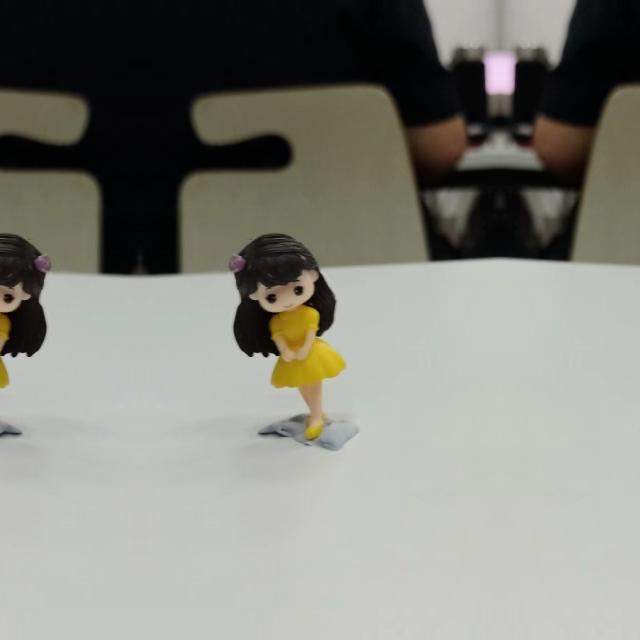woman head: (227, 228, 321, 314), (0, 228, 53, 313)
